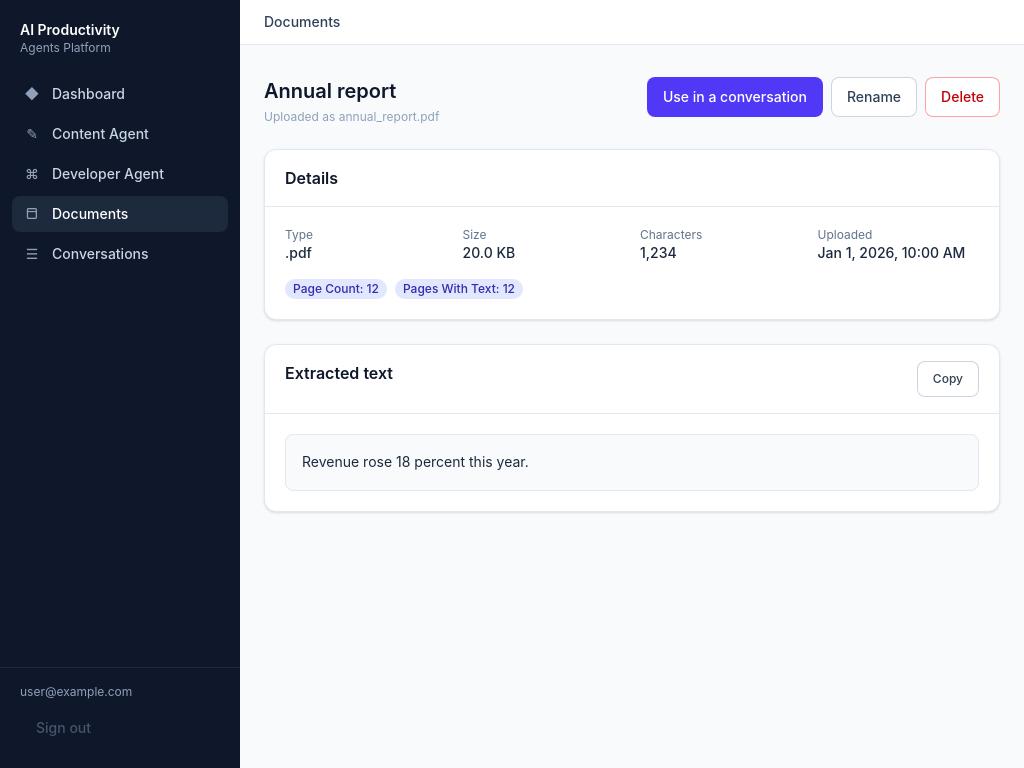
it: Document detail › confirms before deleting, then returns to the list
This screenshot has width=1024, height=768.
Click the button "Delete" at [963, 97], box left=925, top=77, right=1000, bottom=117
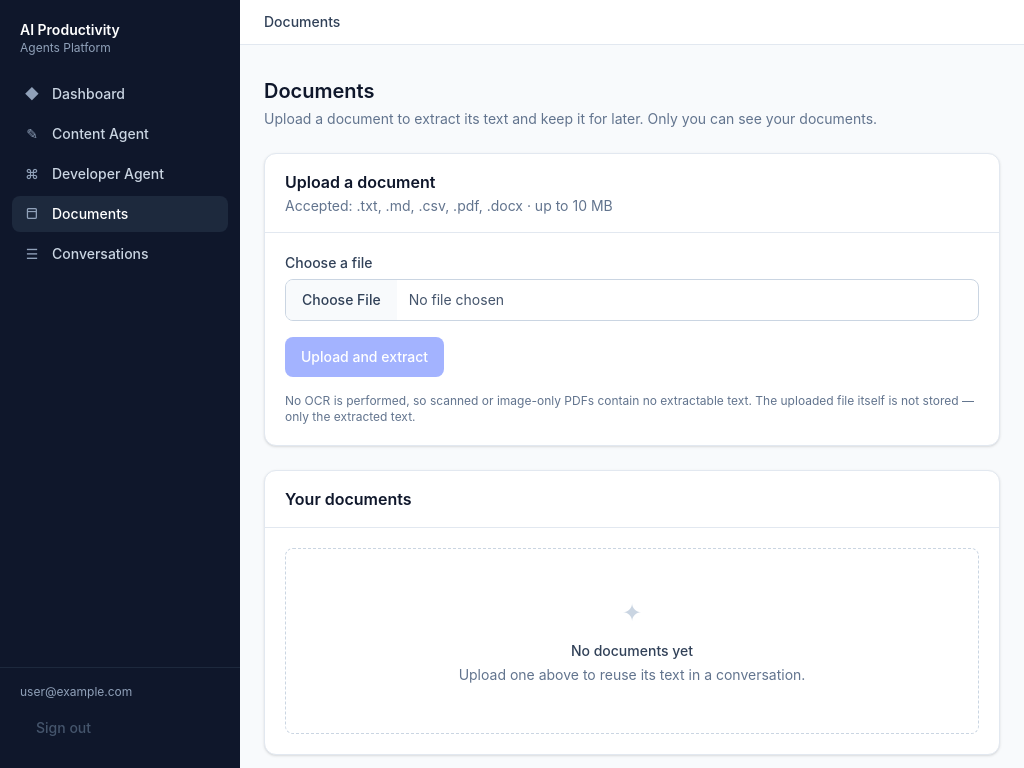
Check: the heading "Documents" is shown, box left=264, top=79, right=374, bottom=103
